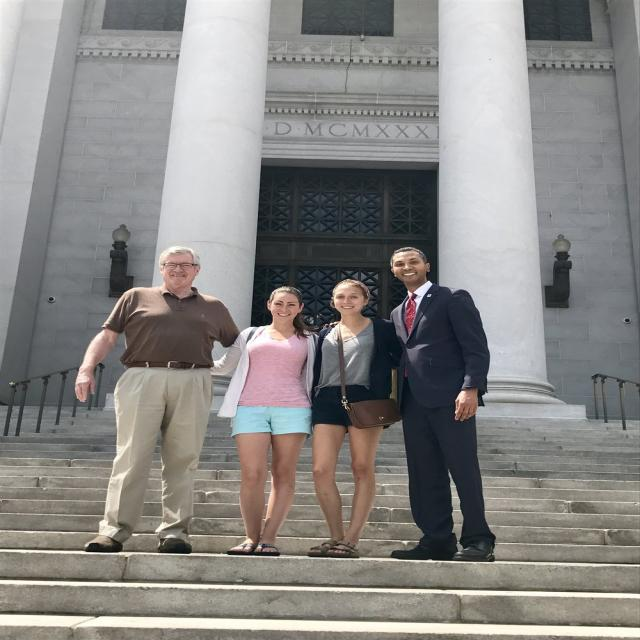body: (72, 244, 242, 556), (386, 245, 500, 564), (207, 286, 321, 558), (306, 277, 404, 560)
